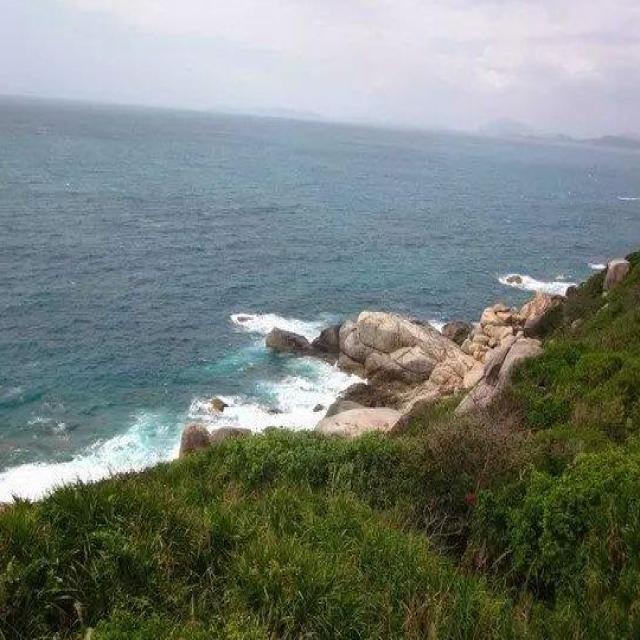reef: (284, 281, 480, 430)
